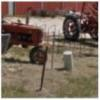tractors: (2, 15, 50, 68), (62, 8, 99, 44)
